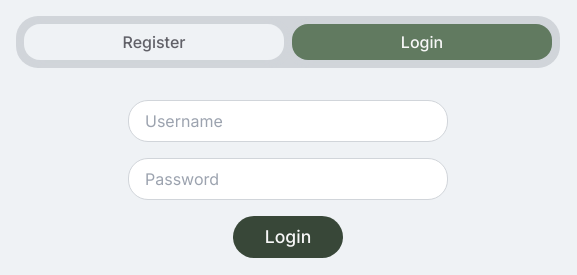
Login Page -- /Login › Unauthenticated User › Login/Register Tabs › properly toggles to register upon clicking register tab
The image size is (577, 275).
What coordinates should you click on to do the following:
click the button with test id "register-tab"
I would click on:
 (154, 42)
Its box is x1=24 y1=24 x2=284 y2=60.
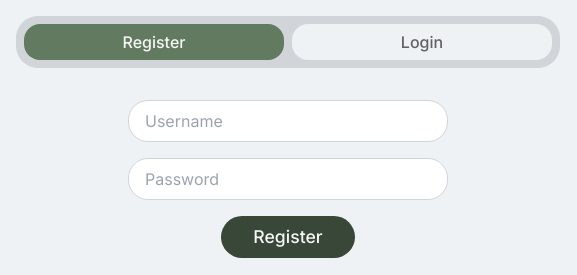
Expected: the button with test id "login-tab" is enabled, x1=292 y1=24 x2=552 y2=60
Expected: the button with test id "register-tab" is disabled, x1=24 y1=24 x2=284 y2=60
Expected: the button with test id "submit-btn" reads "Register", x1=221 y1=216 x2=355 y2=258
